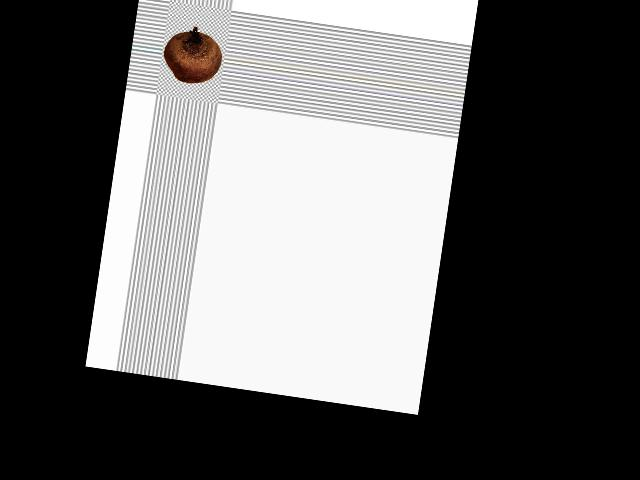beet: (160, 22, 225, 86)
